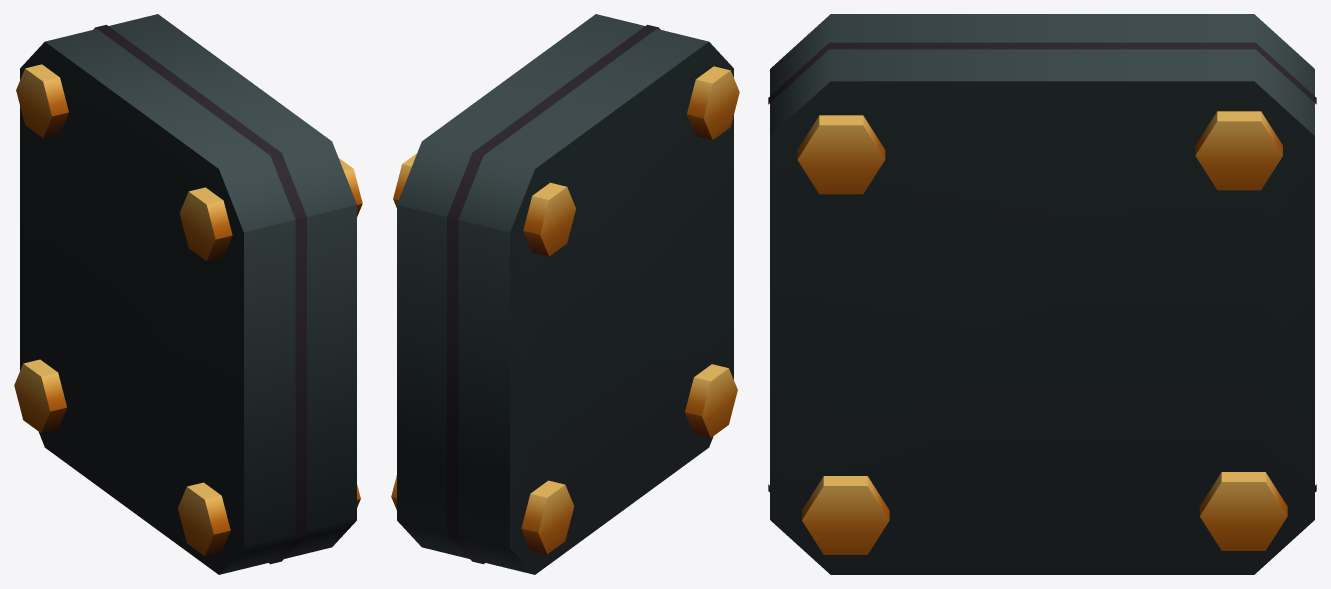
The model's file is Pipe_Support_3A.fbx.
3 renders of one model, left to right at view 1: azimuth 30°, elevation 25°; view 2: azimuth 150°, elevation 25°; view 3: azimuth 270°, elevation 25°, orthographic. The views are drawn at different scales.
Visible parts, largest first — view 1: Pipe_Support_3A; view 2: Pipe_Support_3A; view 3: Pipe_Support_3A.
Boxes of the visible parts, left/top/right/bottom form: Pipe_Support_3A: left=14, top=14, right=362, bottom=574; Pipe_Support_3A: left=391, top=14, right=739, bottom=574; Pipe_Support_3A: left=768, top=14, right=1316, bottom=574.
Size of the model in its own units: 51.97 by 138 by 138.
